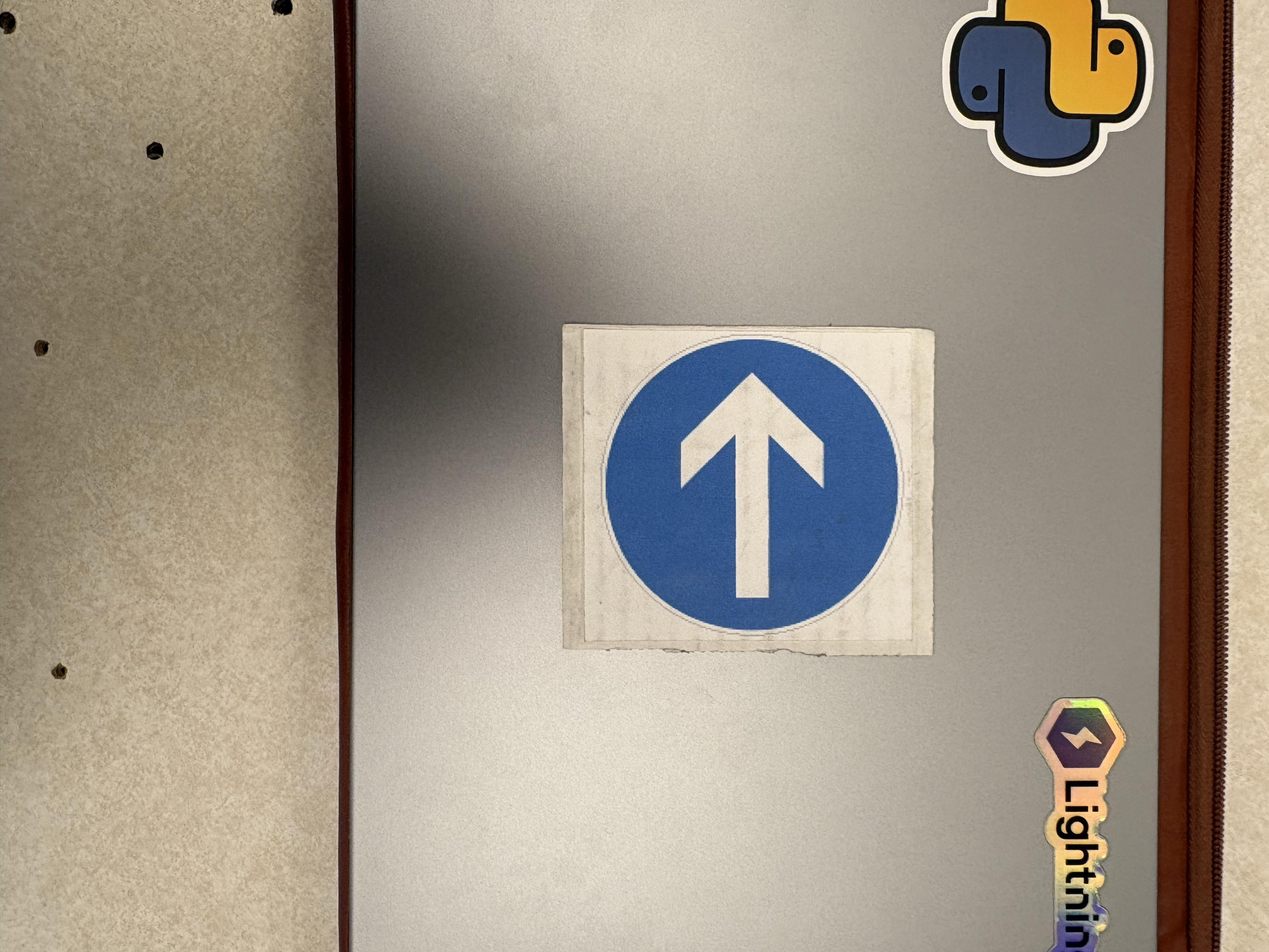Proceed Forward: (559, 325, 935, 657)
